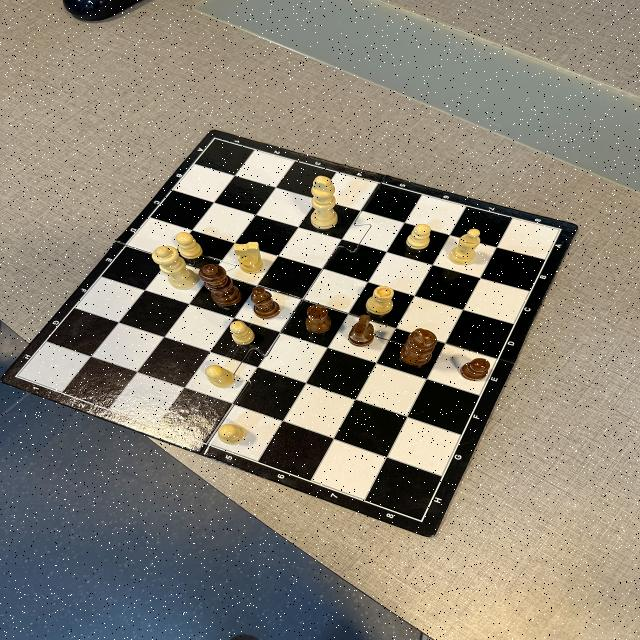Black-Bishop: (250, 286, 280, 320)
Black-King: (400, 328, 438, 367)
Black-Knight: (348, 314, 374, 347)
Black-Pawn: (460, 358, 491, 382)
Black-Queen: (199, 262, 243, 306)
Black-Rook: (305, 304, 331, 334)
White-Bishop: (449, 228, 481, 266)
White-King: (311, 176, 338, 230)
White-Knight: (233, 242, 264, 274)
White-Pawn: (175, 232, 203, 260), (205, 364, 235, 388), (407, 224, 431, 250), (230, 320, 254, 346), (218, 424, 245, 445)
White-Queen: (152, 245, 198, 291)
White-Rook: (366, 286, 394, 316)
